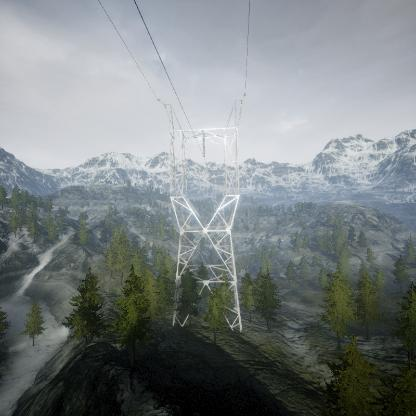tower: (153, 90, 249, 340)
